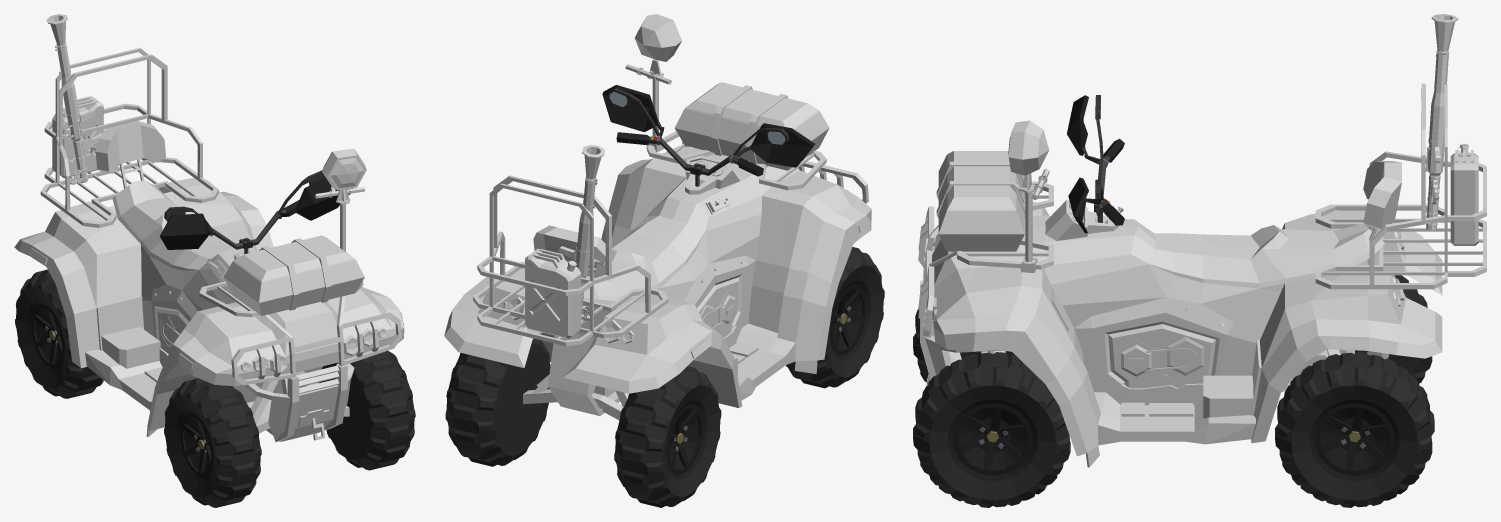
File: quad.fbx
3 renders of one model, left to right at view 1: azimuth 30°, elevation 25°; view 2: azimuth 150°, elevation 25°; view 3: azimuth 270°, elevation 25°, orthographic. The views are drawn at different scales.
Visible parts, largest first — view 1: quad, front_right_mesh, front_left_mesh, back_right_mesh, handlebar, rocket_launcher; view 2: quad, back_right_mesh, back_left_mesh, front_right_mesh, handlebar, rocket_launcher; view 3: quad, back_left_mesh, front_left_mesh, handlebar, rocket_launcher, back_right_mesh.
Part boxes in pixels (box(x1,y1,x2,y2)): quad: box(14, 48, 404, 442); front_right_mesh: box(164, 378, 261, 507); front_left_mesh: box(319, 350, 415, 470); back_right_mesh: box(15, 269, 103, 398); handlebar: box(159, 170, 352, 254); rocket_launcher: box(46, 14, 101, 184); quad: box(444, 14, 871, 420); back_right_mesh: box(614, 366, 721, 507); back_left_mesh: box(445, 338, 550, 466); front_right_mesh: box(786, 247, 884, 388); handlebar: box(602, 85, 815, 186); rocket_launcher: box(558, 144, 604, 320); quad: box(918, 83, 1486, 467); back_left_mesh: box(1275, 352, 1434, 507); front_left_mesh: box(913, 352, 1070, 507); handlebar: box(1067, 95, 1124, 233); rocket_launcher: box(1425, 14, 1458, 230); back_right_mesh: box(1355, 275, 1432, 384).
Bounding box in the file's own units: 120 × 181 × 228.
